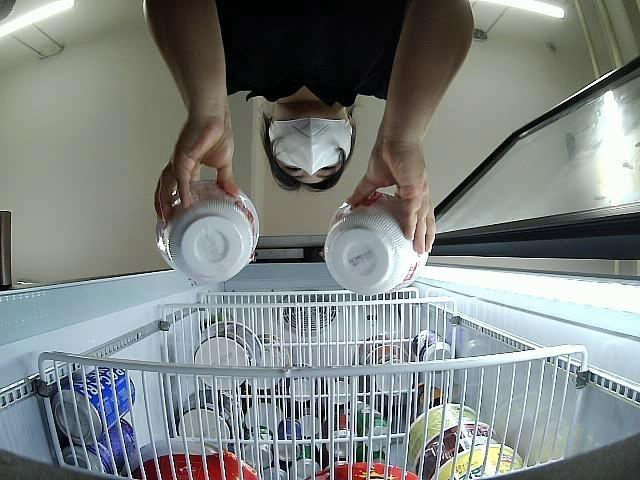09_yukGaeJang: (324, 189, 428, 294), (156, 180, 262, 282)
